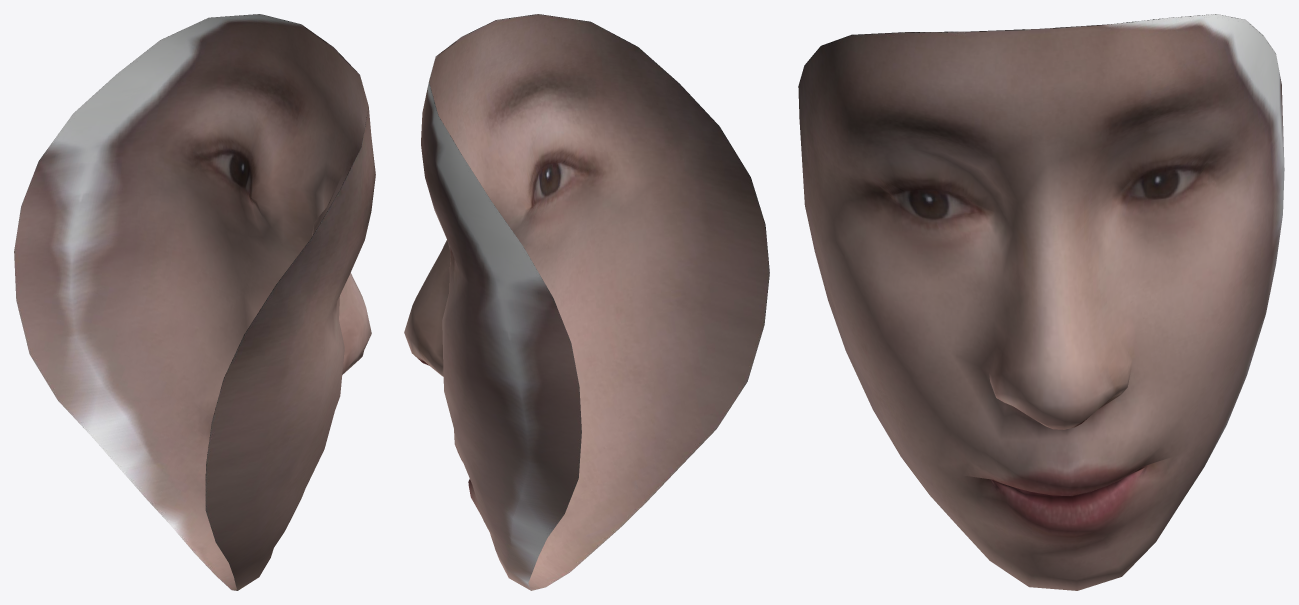
The model's file is afreecatv_gameplay.glb.
3 views of the same model, side by side, from view 1: azimuth 30°, elevation 25°; view 2: azimuth 150°, elevation 25°; view 3: azimuth 270°, elevation 25° (orthographic). The views are drawn at different scales.
Visible parts, largest first — view 1: afreecatv_gameplay; view 2: afreecatv_gameplay; view 3: afreecatv_gameplay.
Part boxes in pixels (x1,y1,x2,y2): afreecatv_gameplay: (14, 14, 375, 590); afreecatv_gameplay: (404, 14, 769, 590); afreecatv_gameplay: (798, 14, 1284, 590).
Size of the model in its own units: 0.438 by 0.8345 by 0.5934.
Materials: 1 (1 with a texture image).
